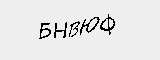Б: (37, 20, 52, 41)
В: (68, 20, 81, 39)
Н: (53, 19, 68, 41)
Ф: (99, 12, 119, 34)
Ю: (78, 15, 100, 35)
